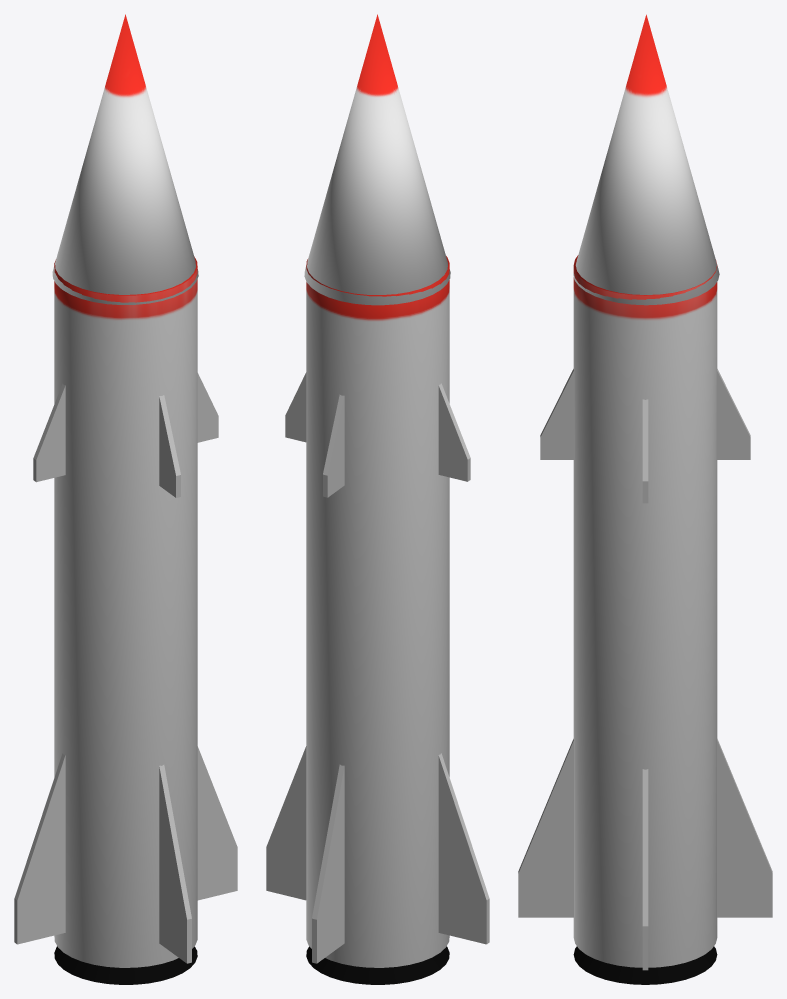
File: dfeh.glb
The picture shows the model from 3 angles, left to right: view 1: azimuth 30°, elevation 25°; view 2: azimuth 150°, elevation 25°; view 3: azimuth 270°, elevation 25°; orthographic projection.
Visible parts, largest first — view 1: 弹身, 弹头, 立方体.004, 立方体.007, 立方体.008, 弹尾, 立方体.002, 立方体.005, 立方体.003; view 2: 弹身, 弹头, 立方体.004, 立方体.006, 立方体.008, 弹尾, 立方体.002, 立方体.001, 立方体.003; view 3: 弹身, 弹头, 立方体.007, 立方体.006, 弹尾, 立方体.001, 立方体.005, 立方体.008, 立方体.003.
Boxes of the visible parts, x1,y1,x2,y2 form: 弹身: [54, 256, 197, 967]; 弹头: [52, 14, 198, 304]; 立方体.004: [14, 753, 65, 944]; 立方体.007: [159, 765, 191, 963]; 立方体.008: [197, 746, 237, 900]; 弹尾: [54, 946, 197, 984]; 立方体.002: [33, 383, 65, 482]; 立方体.005: [159, 395, 180, 497]; 立方体.003: [197, 373, 218, 442]; 弹身: [306, 256, 449, 967]; 弹头: [304, 14, 450, 305]; 立方体.004: [438, 753, 489, 944]; 立方体.006: [312, 764, 344, 963]; 立方体.008: [266, 746, 306, 900]; 弹尾: [306, 946, 449, 984]; 立方体.002: [438, 383, 470, 481]; 立方体.001: [323, 394, 344, 497]; 立方体.003: [285, 372, 306, 442]; 弹身: [573, 255, 717, 967]; 弹头: [573, 14, 719, 305]; 立方体.007: [518, 739, 573, 917]; 立方体.006: [717, 739, 772, 917]; 弹尾: [573, 946, 717, 984]; 立方体.001: [717, 369, 750, 459]; 立方体.005: [540, 369, 573, 459]; 立方体.008: [642, 769, 648, 970]; 立方体.003: [642, 399, 648, 503].
Size of the model in its own units: 1.77 by 7.23 by 1.77.
11 materials, 11 textured.
